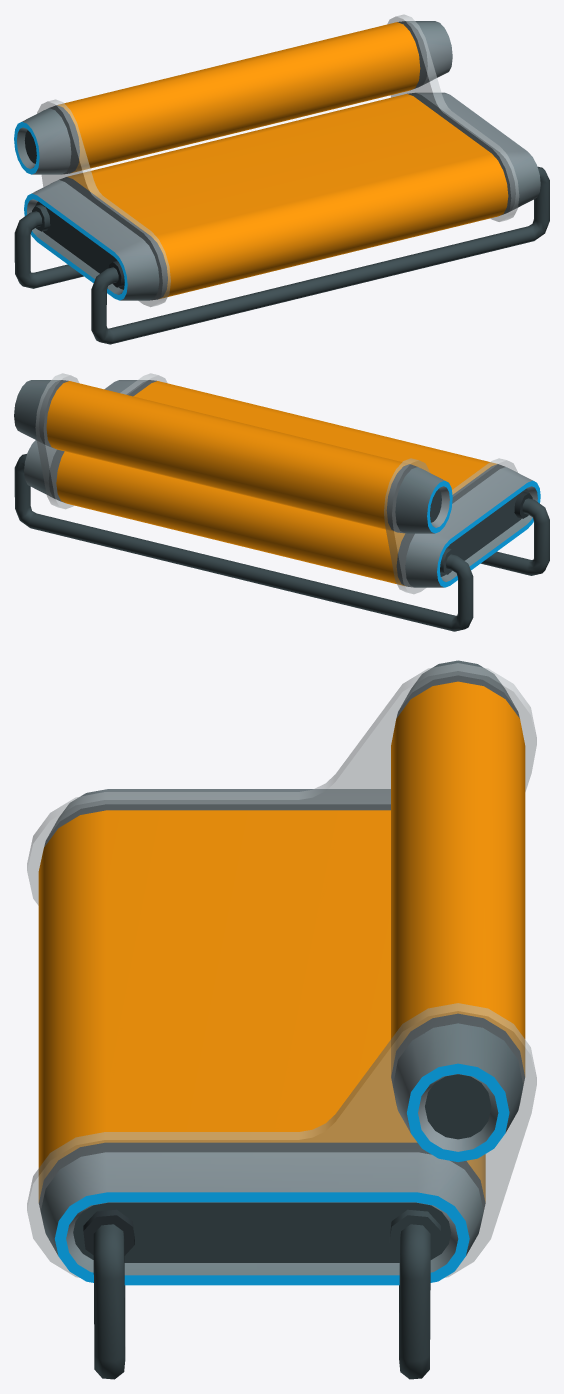
The model's file is Sofa_003.glb.
The picture shows the model from 3 angles, top to bottom: view 1: azimuth 30°, elevation 25°; view 2: azimuth 150°, elevation 25°; view 3: azimuth 270°, elevation 25°; orthographic projection. The views are drawn at different scales.
Parts seen in each view (by area): view 1: Sofa_003; view 2: Sofa_003; view 3: Sofa_003.
Boxes of the visible parts, x1=… form: Sofa_003: x1=14, y1=14, x2=549, y2=344; Sofa_003: x1=14, y1=373, x2=549, y2=631; Sofa_003: x1=27, y1=660, x2=536, y2=1379.
Bounding box in the file's own units: 2.02 × 0.7108 × 0.9799.
3 materials, 3 textured.
